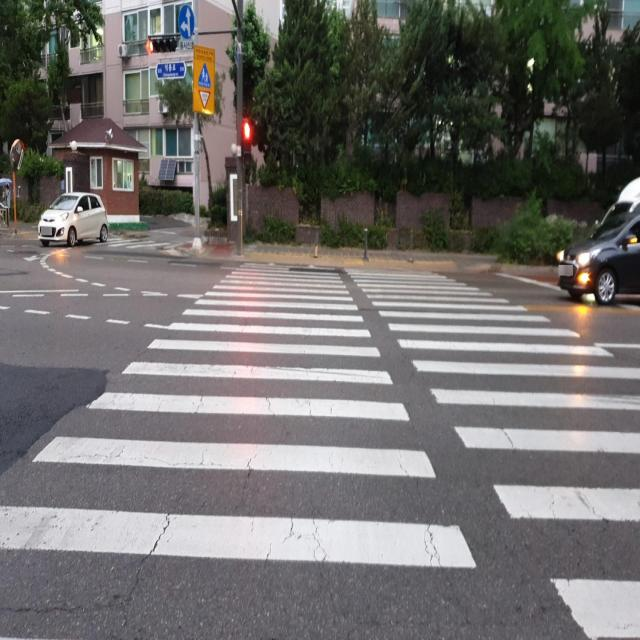빨간불: (240, 118, 254, 166)
횡단보도: (0, 260, 640, 640)
